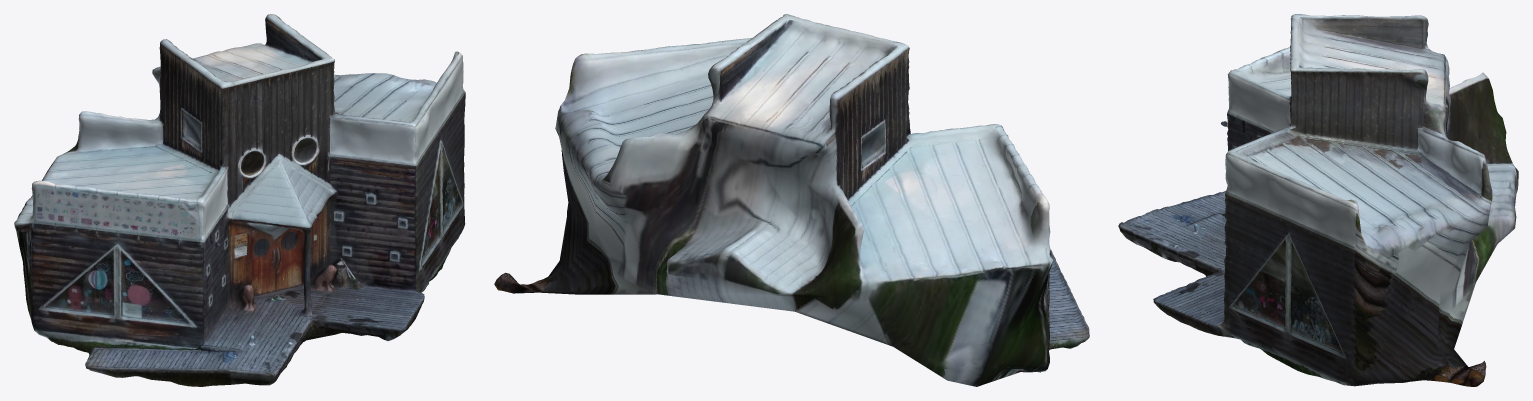
Rendered from aozora-republic_kidsbox.glb.
3 views of the same model, side by side, from view 1: azimuth 30°, elevation 25°; view 2: azimuth 150°, elevation 25°; view 3: azimuth 270°, elevation 25° (orthographic). The views are drawn at different scales.
Parts seen in each view (by area): view 1: baked_mesh; view 2: baked_mesh; view 3: baked_mesh.
Boxes of the visible parts, x1=… form: baked_mesh: x1=14, y1=14, x2=465, y2=386; baked_mesh: x1=494, y1=14, x2=1089, y2=386; baked_mesh: x1=1118, y1=14, x2=1518, y2=386.
Bounding box in the file's own units: 10.21 × 5.34 × 7.58.
1 material, 1 textured.
